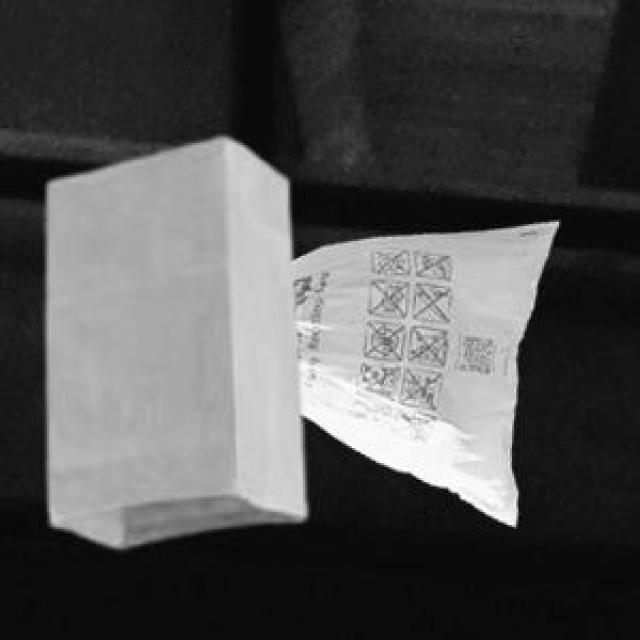paper: (43, 134, 301, 542)
